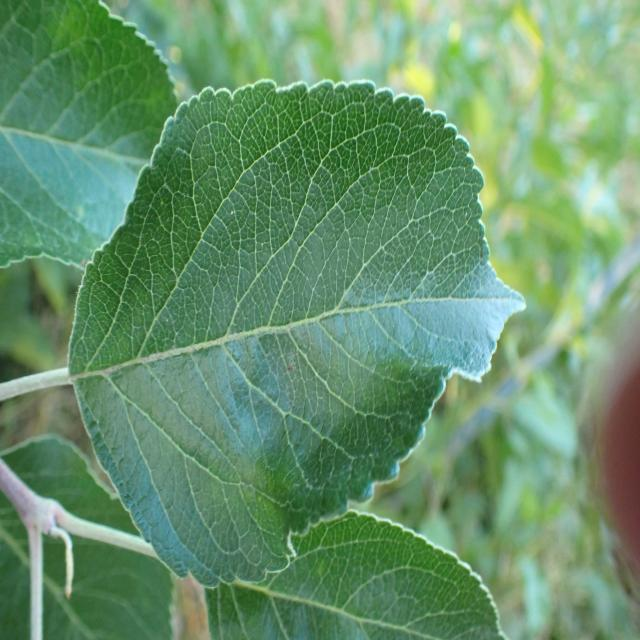healthy: (68, 78, 528, 590), (0, 0, 179, 270), (205, 508, 507, 640), (0, 432, 175, 640)
